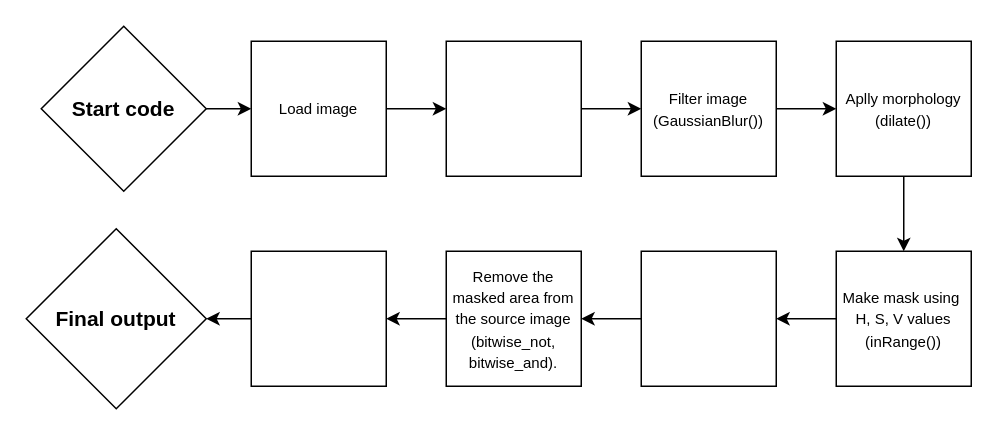
The diagram is 998 pixels wide and 435 high, and some of its shapes have lost their labels. Here are the shapes that lost their labels. From the top down, the box of each, then its label:
(445, 40, 581, 176): Convert the color scale to HSV.
(250, 250, 386, 386): Combine the mask and the source image. (bitwise_or)
(640, 250, 776, 386): Insert the initial image into the mask. (bitwise_and)
